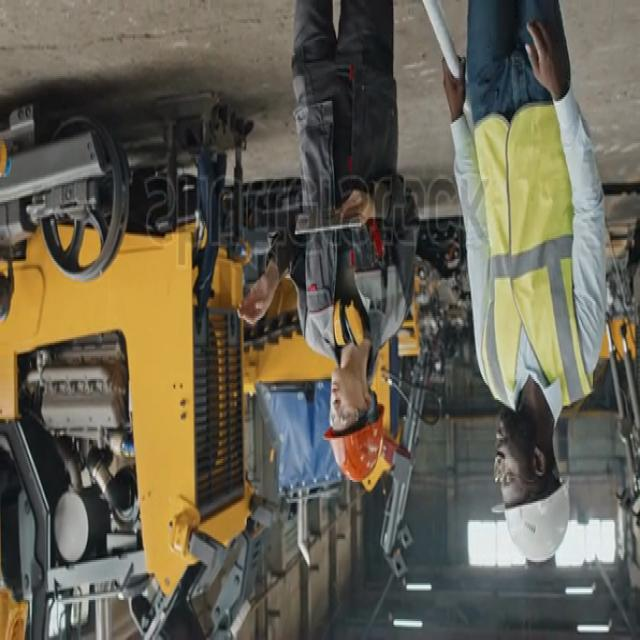goggles: (489, 458, 530, 493), (323, 406, 367, 432)
